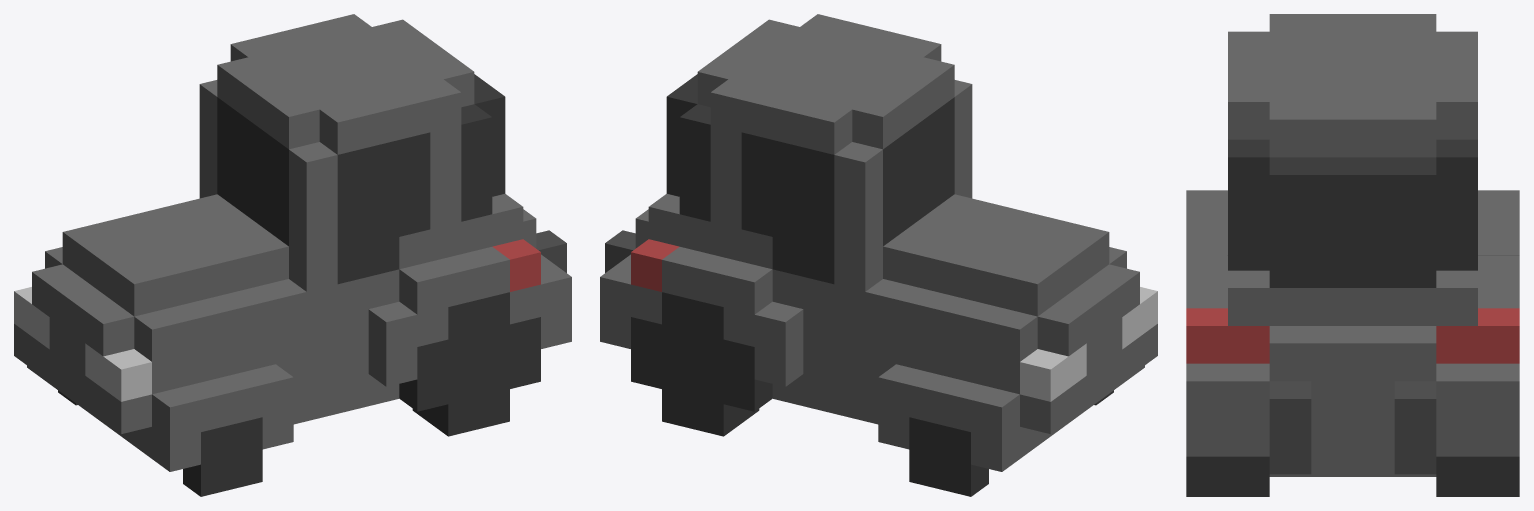
The model's file is tractor-grey.gltf.
The picture shows the model from 3 angles, left to right: view 1: azimuth 30°, elevation 25°; view 2: azimuth 150°, elevation 25°; view 3: azimuth 270°, elevation 25°; orthographic projection. The views are drawn at different scales.
Visible parts, largest first — view 1: model, wheels; view 2: model, wheels; view 3: model, wheels.
Boxes of the visible parts, x1,y1,x2,y2 form: model: (14,14,571,471); wheels: (58,292,540,496); model: (600,14,1157,471); wheels: (631,292,1113,496); model: (1186,14,1519,476); wheels: (1186,456,1519,496).
Size of the model in its own units: 1.5 by 1 by 0.8.
2 materials, 2 textured.
